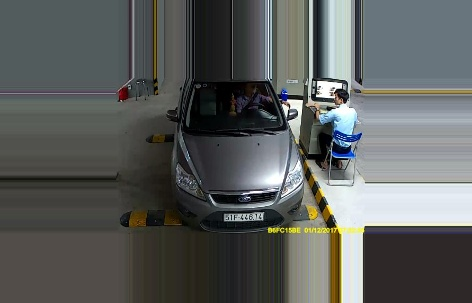plate: (222, 209, 265, 222)
